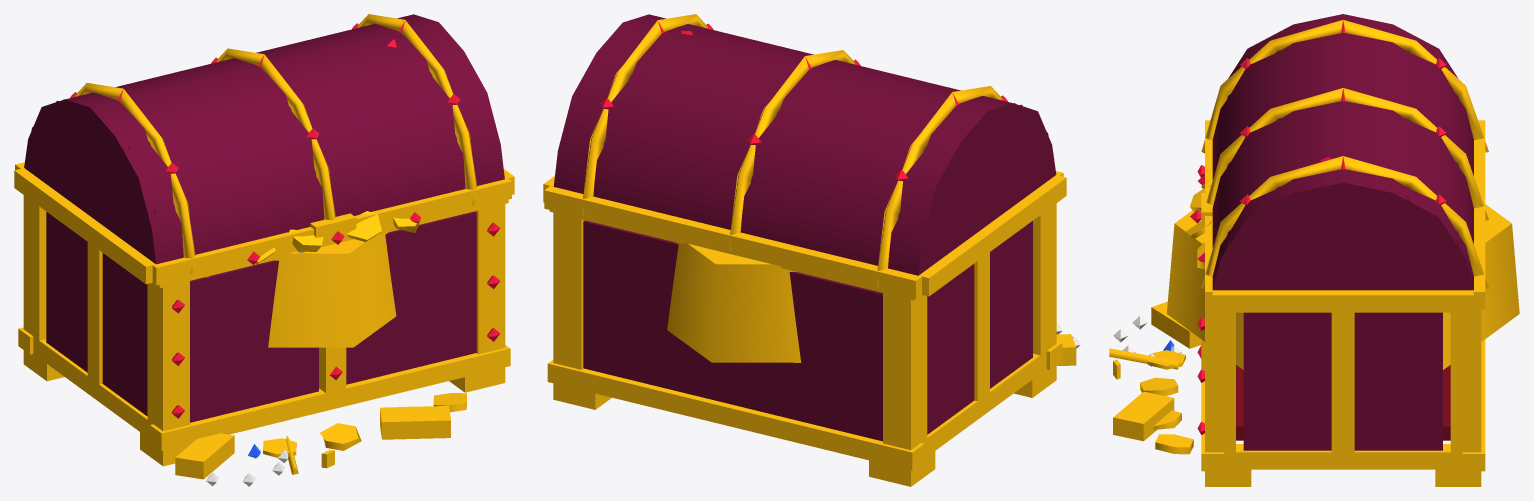
File: chest-epic.glb
The picture shows the model from 3 angles, left to right: view 1: azimuth 30°, elevation 25°; view 2: azimuth 150°, elevation 25°; view 3: azimuth 270°, elevation 25°; orthographic projection. The views are drawn at different scales.
Visible parts, largest first — view 1: base, lid; view 2: lid, base; view 3: lid, base.
Boxes of the visible parts, x1,y1,x2,y2 form: base: (18, 39, 510, 486); lid: (14, 14, 514, 285); lid: (543, 14, 1066, 299); base: (547, 31, 1080, 486); lid: (1190, 14, 1488, 312); base: (1109, 157, 1519, 486).
Size of the model in its own units: 1.1 by 0.91 by 1.07.
